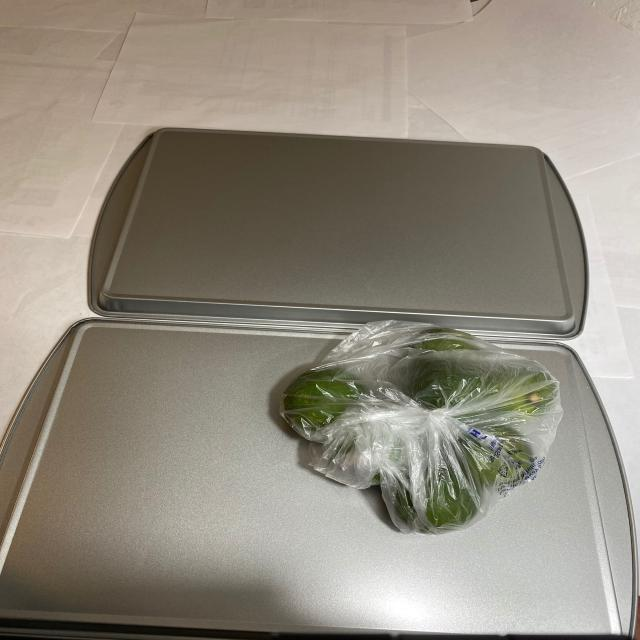lemon: (282, 333, 552, 533)
